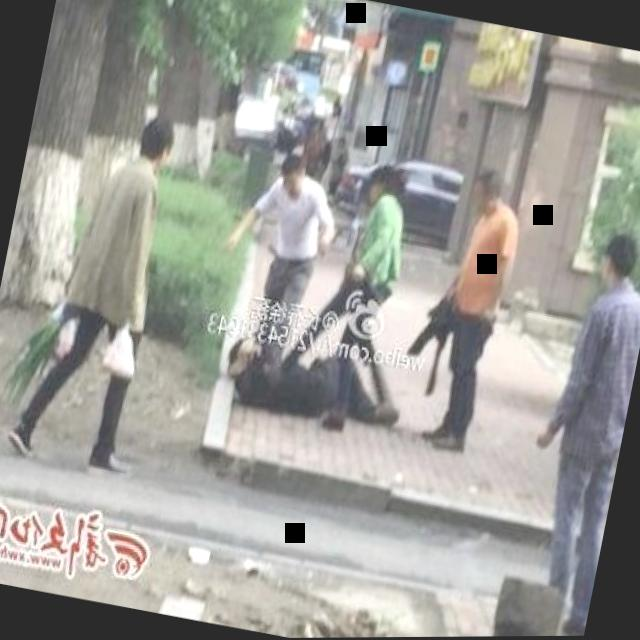Fall-Detected: (209, 308, 428, 445)
